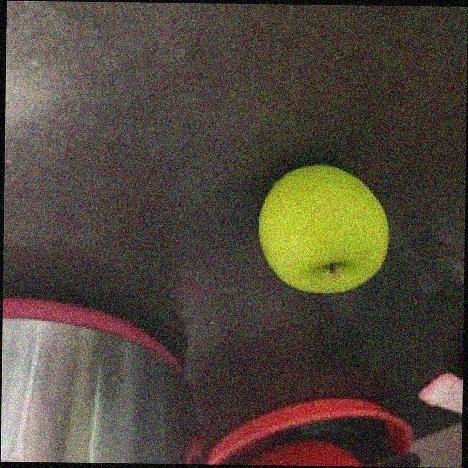green apple: (256, 163, 391, 295)
